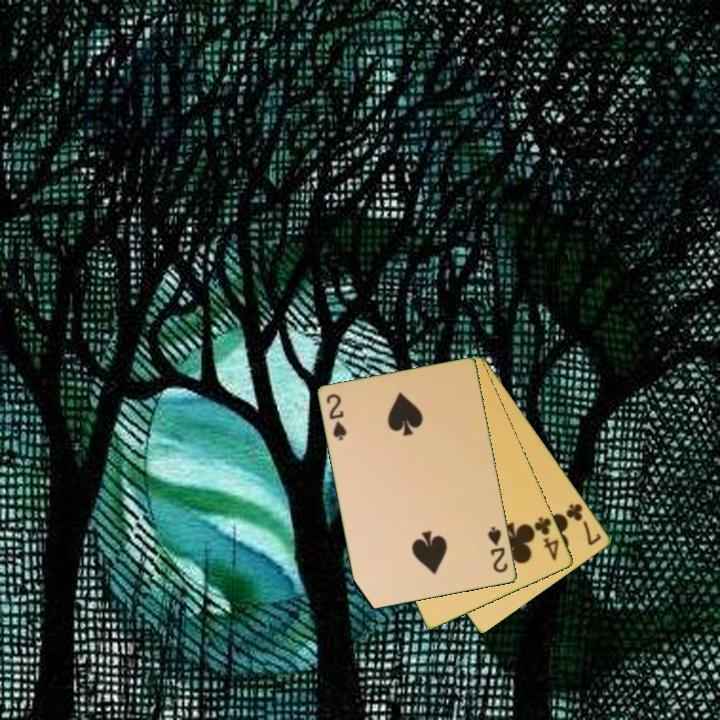2s: (323, 390, 350, 444), (484, 523, 511, 576)
4c: (531, 513, 562, 564)
7c: (563, 500, 605, 549)
